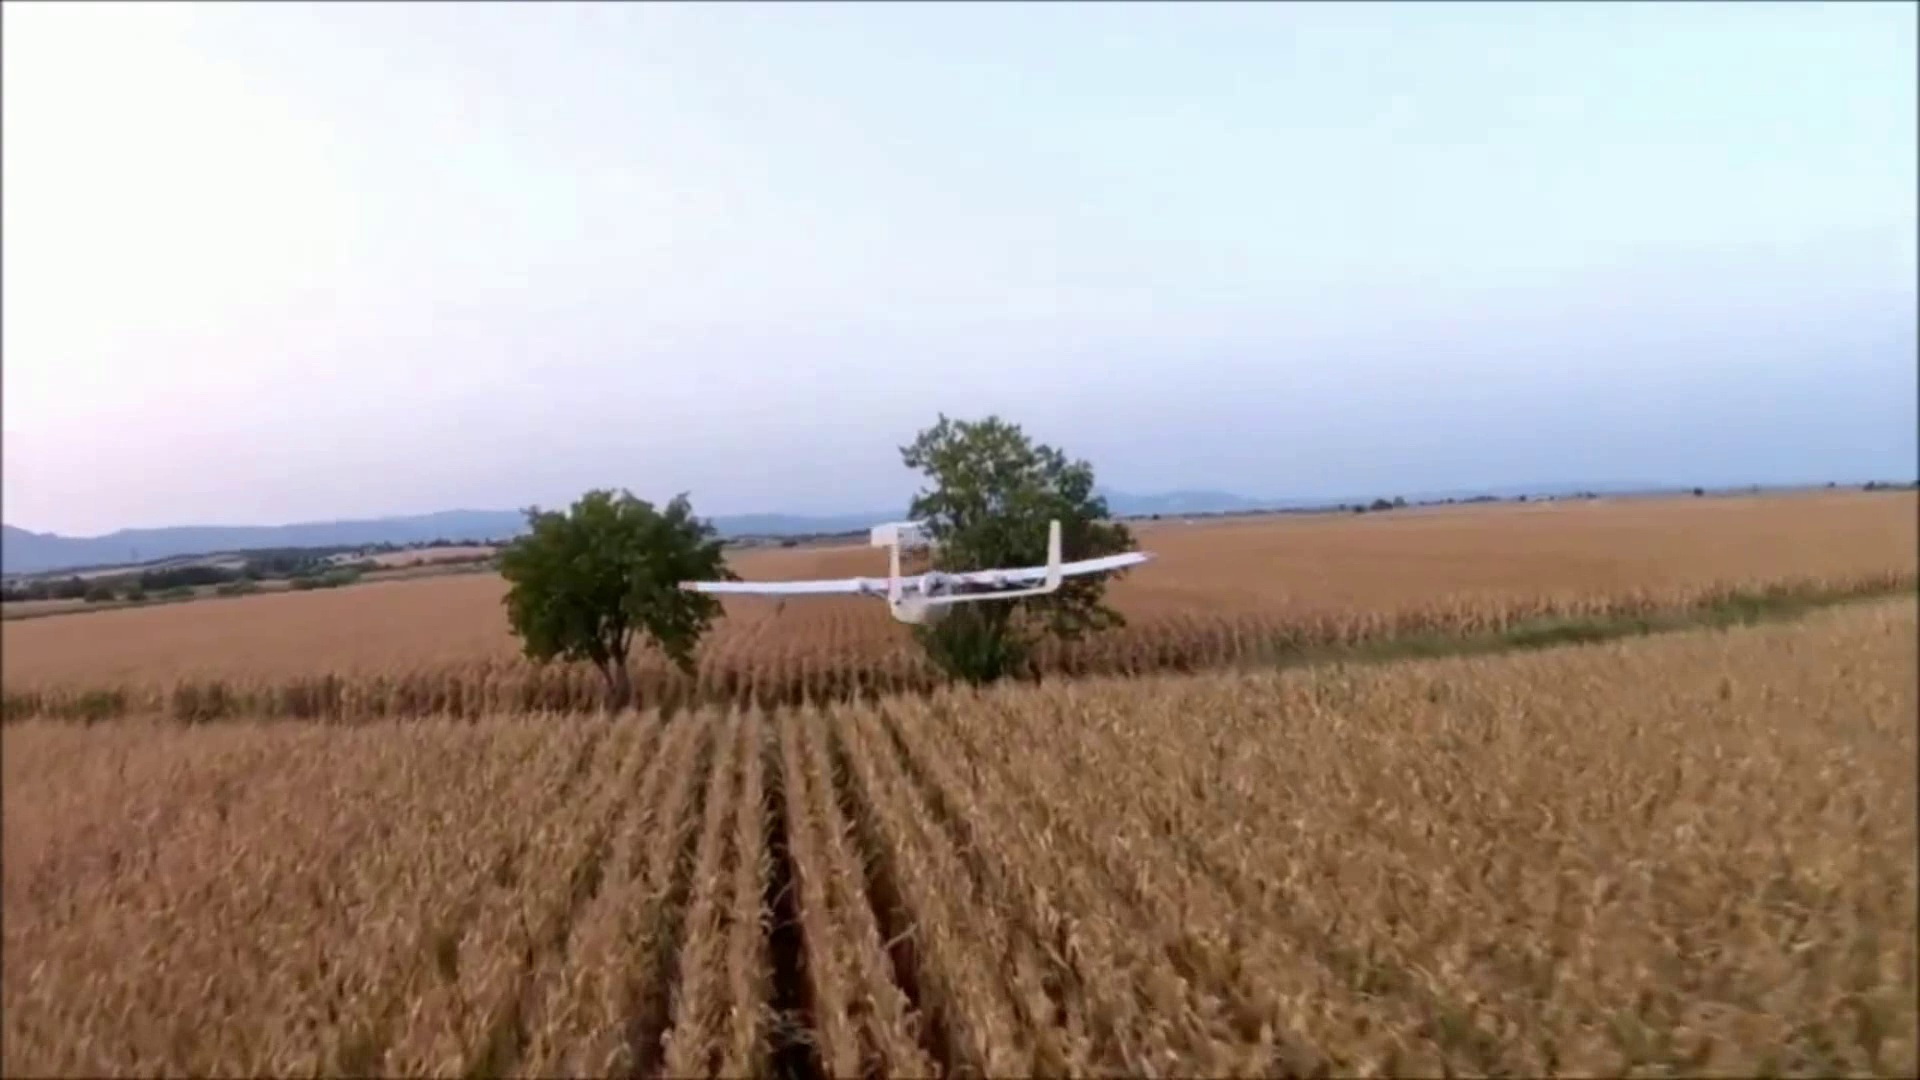airplane: (676, 513, 1153, 626)
